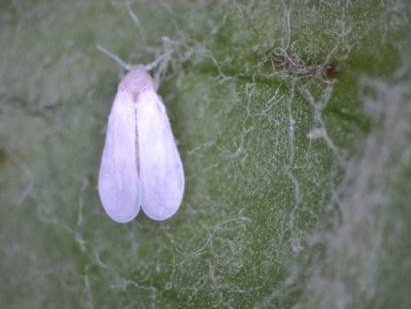Tobacco Whitefly: (92, 29, 203, 236)
